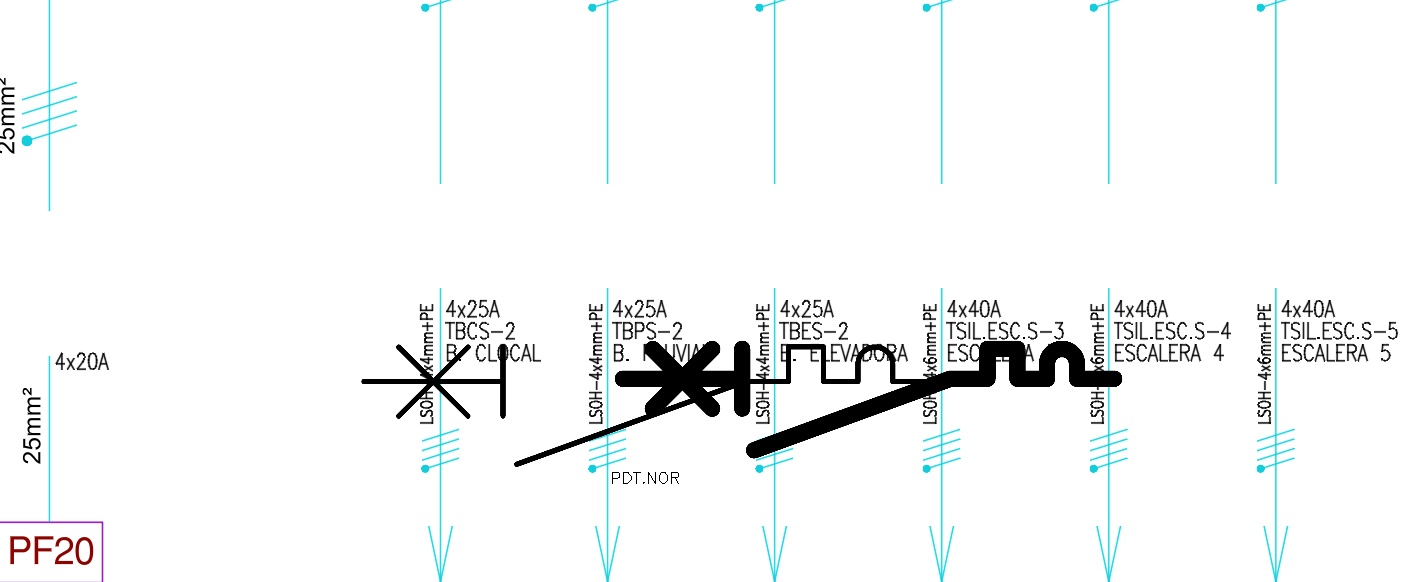interruptor_termomagnetico: (349, 332, 951, 479), (610, 336, 1127, 462)
